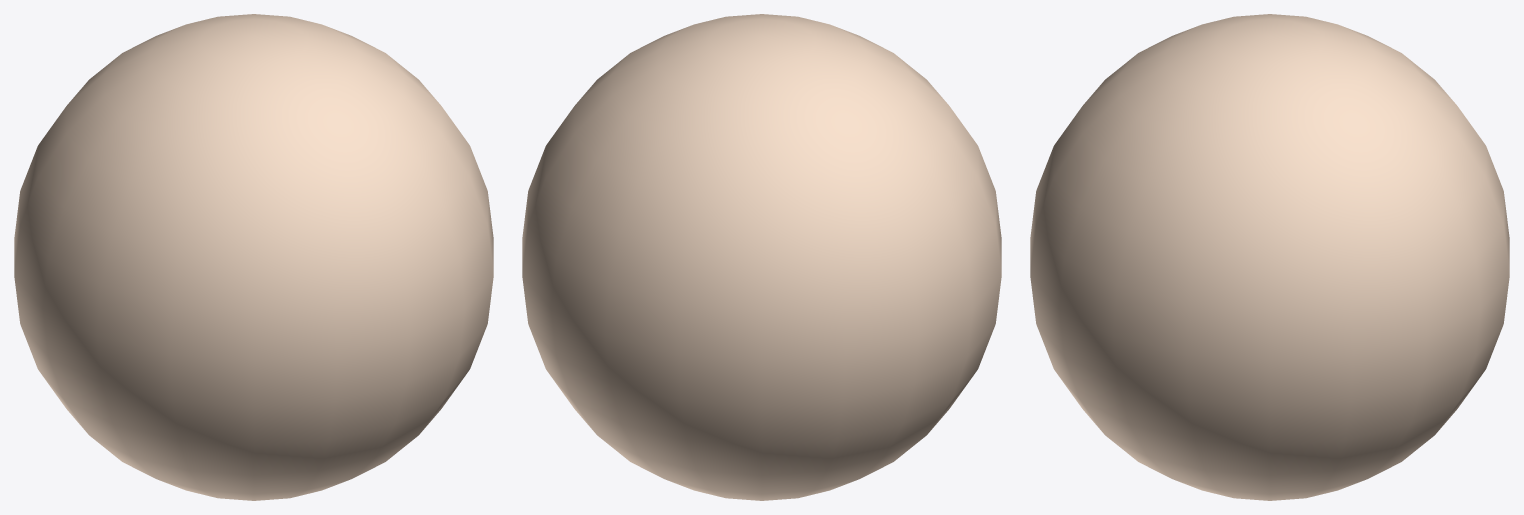
File: head-oval-01.glb
The picture shows the model from 3 angles, left to right: view 1: azimuth 30°, elevation 25°; view 2: azimuth 150°, elevation 25°; view 3: azimuth 270°, elevation 25°; orthographic projection.
Bounding box in the file's own units: 2 × 2 × 1.97.
